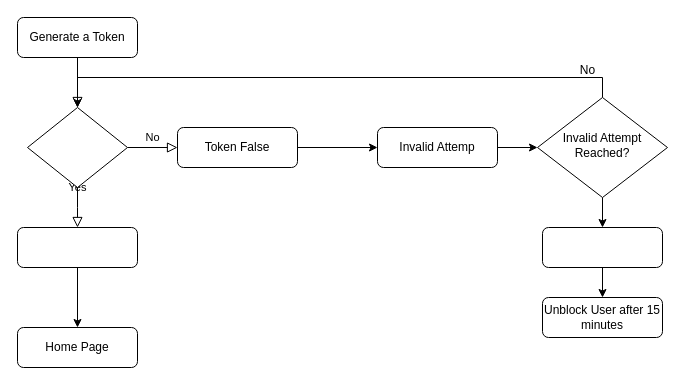
This 685x385 diagram has some shape labels left out. The centre of each missing label's shape, as x and y in pixels:
"Block the User" belongs at pixel 602 247.
"Token True" belongs at pixel 77 247.
"Validate Credential?" belongs at pixel 77 147.
